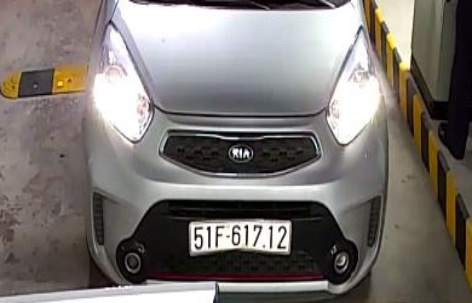plate: (184, 217, 293, 259)
